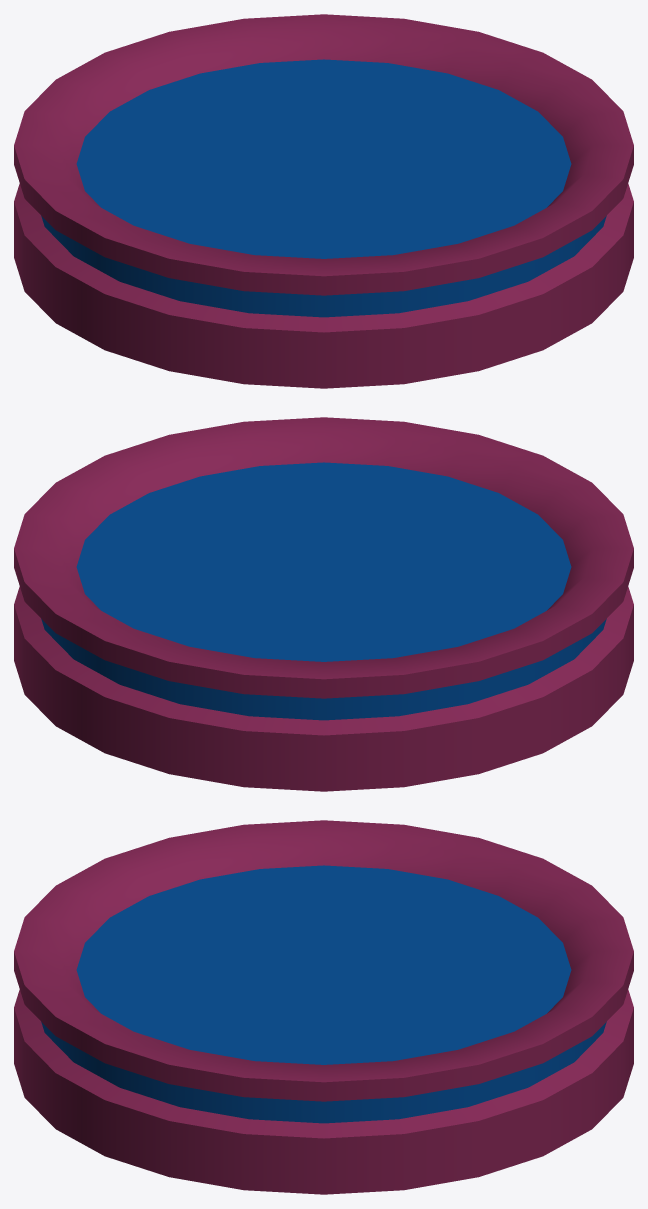
Rendered from circle_light.FBX.
3 renders of one model, top to bottom at view 1: azimuth 30°, elevation 25°; view 2: azimuth 150°, elevation 25°; view 3: azimuth 270°, elevation 25°, orthographic.
Visible parts, largest first — view 1: disklight001; view 2: disklight001; view 3: disklight001.
Boxes of the visible parts, <box> form: disklight001: <box>14,14,633,388</box>; disklight001: <box>14,417,633,791</box>; disklight001: <box>14,820,633,1194</box>.
Bounding box in the file's own units: 3000 × 600 × 3000.
